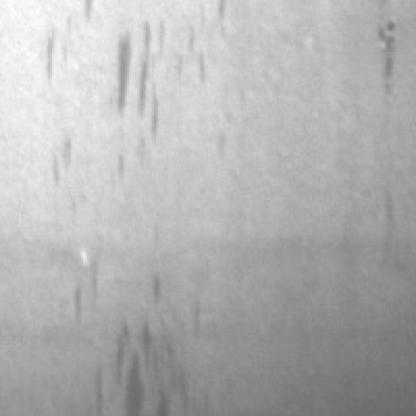inclusion: (90, 302, 209, 412), (100, 10, 177, 146), (362, 8, 404, 106)
